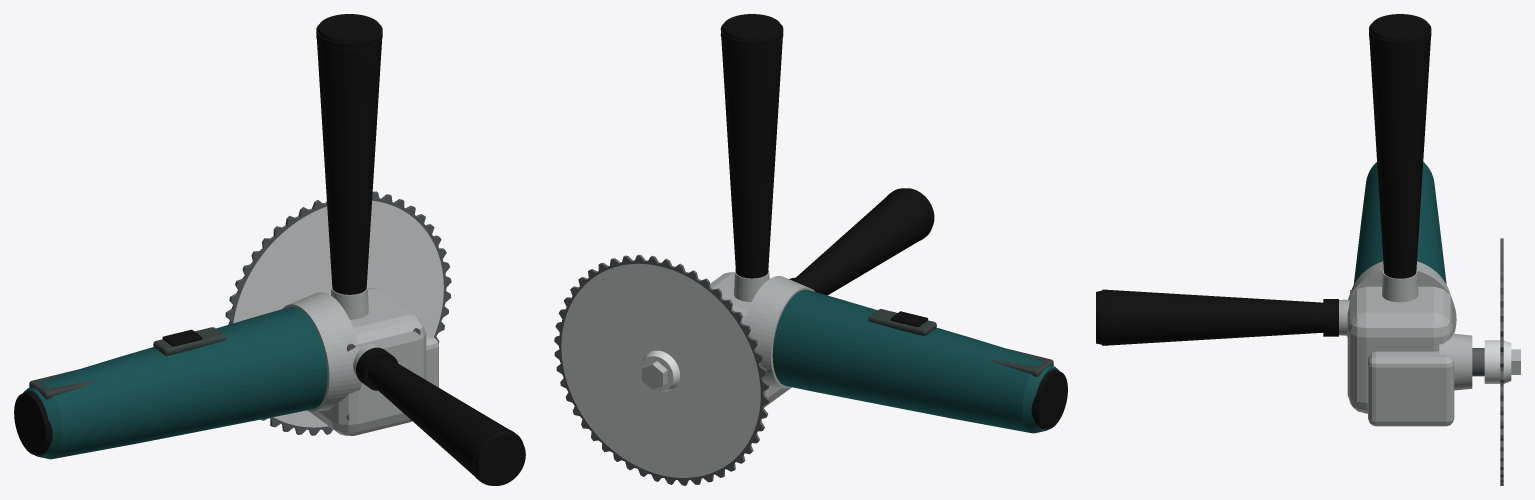
3 renders of one model, left to right at view 1: azimuth 30°, elevation 25°; view 2: azimuth 150°, elevation 25°; view 3: azimuth 270°, elevation 25°, orthographic. The views are drawn at different scales.
Parts seen in each view (by area): view 1: visual_part_000_0_4, visual_part_000_0_3, visual_part_001_0_1, visual_part_000_0_1, visual_part_001_0_2, visual_part_000_0_2; view 2: visual_part_001_0_1, visual_part_000_0_4, visual_part_000_0_3, visual_part_000_0_1, visual_part_001_0_2, visual_part_000_0_2, visual_part_001_0_0; view 3: visual_part_000_0_3, visual_part_000_0_1, visual_part_000_0_4, visual_part_001_0_2, visual_part_001_0_1.
Part boxes in pixels (<box>): visual_part_000_0_4: <box>23,306,327,459</box>; visual_part_000_0_3: <box>14,14,525,485</box>; visual_part_001_0_1: <box>233,200,443,427</box>; visual_part_000_0_1: <box>282,285,438,435</box>; visual_part_001_0_2: <box>225,191,451,435</box>; visual_part_000_0_2: <box>29,327,225,399</box>; visual_part_001_0_1: <box>561,263,760,477</box>; visual_part_000_0_4: <box>772,289,1059,433</box>; visual_part_000_0_3: <box>720,14,1067,429</box>; visual_part_000_0_1: <box>710,270,814,407</box>; visual_part_001_0_2: <box>554,254,769,485</box>; visual_part_000_0_2: <box>868,309,1053,376</box>; visual_part_001_0_0: <box>642,361,667,389</box>; visual_part_000_0_3: <box>1096,14,1431,345</box>; visual_part_000_0_1: <box>1339,261,1472,426</box>; visual_part_000_0_4: <box>1353,162,1446,284</box>; visual_part_001_0_2: <box>1472,238,1503,485</box>; visual_part_001_0_1: <box>1484,340,1511,383</box>.
Size of the model in its own units: 0.33 by 0.302 by 0.271.
